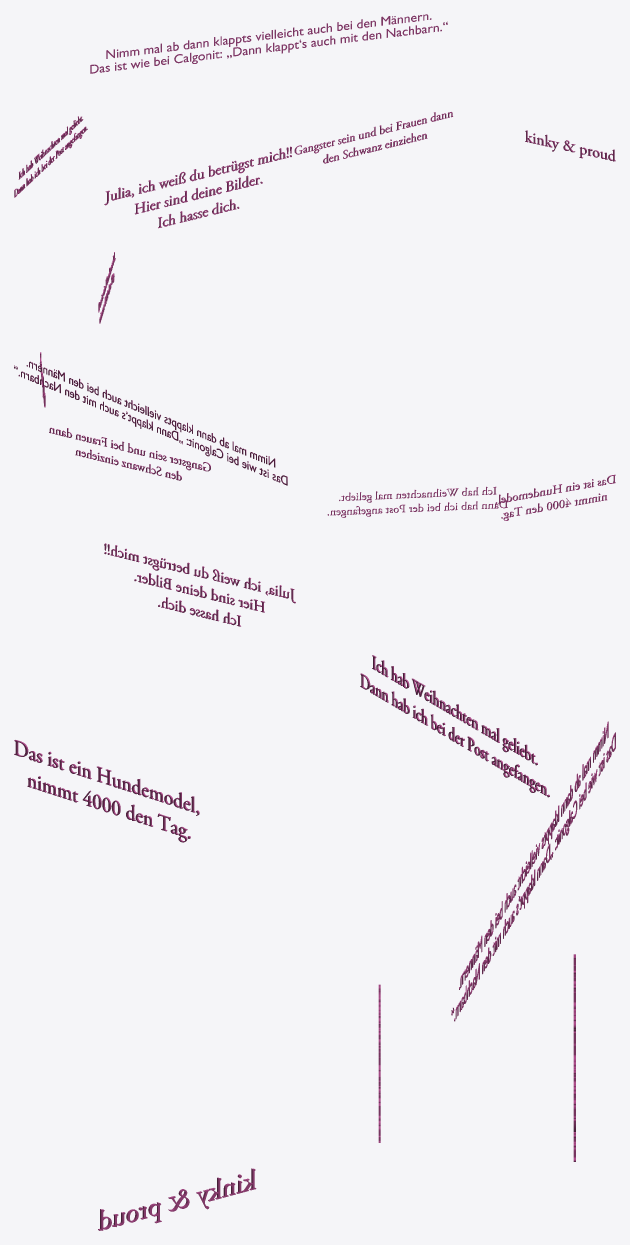
Rendered from Julia.glb.
The picture shows the model from 3 angles, top to bottom: view 1: azimuth 30°, elevation 25°; view 2: azimuth 150°, elevation 25°; view 3: azimuth 270°, elevation 25°; orthographic projection. The views are drawn at different scales.
Visible parts, largest first — view 1: Text.005, Text, Text.004, Text.003, Text.001; view 2: Text.005, Text, Text.003, Text.004, Text.002; view 3: Text.005, Text.003, Text.002, Text.001.
Boxes of the visible parts, <box> form: Text.005: <box>90,14,447,73</box>; Text: <box>104,146,291,228</box>; Text.004: <box>294,112,452,163</box>; Text.003: <box>14,116,87,197</box>; Text.001: <box>525,130,615,161</box>; Text.005: <box>14,361,287,485</box>; Text: <box>104,543,295,626</box>; Text.003: <box>327,486,507,517</box>; Text.004: <box>49,427,210,480</box>; Text.002: <box>495,474,615,520</box>; Text.005: <box>451,721,615,1021</box>; Text.003: <box>360,655,549,797</box>; Text.002: <box>14,740,199,842</box>; Text.001: <box>98,1168,256,1230</box>.
Size of the model in its own units: 689 by 221 by 364.
